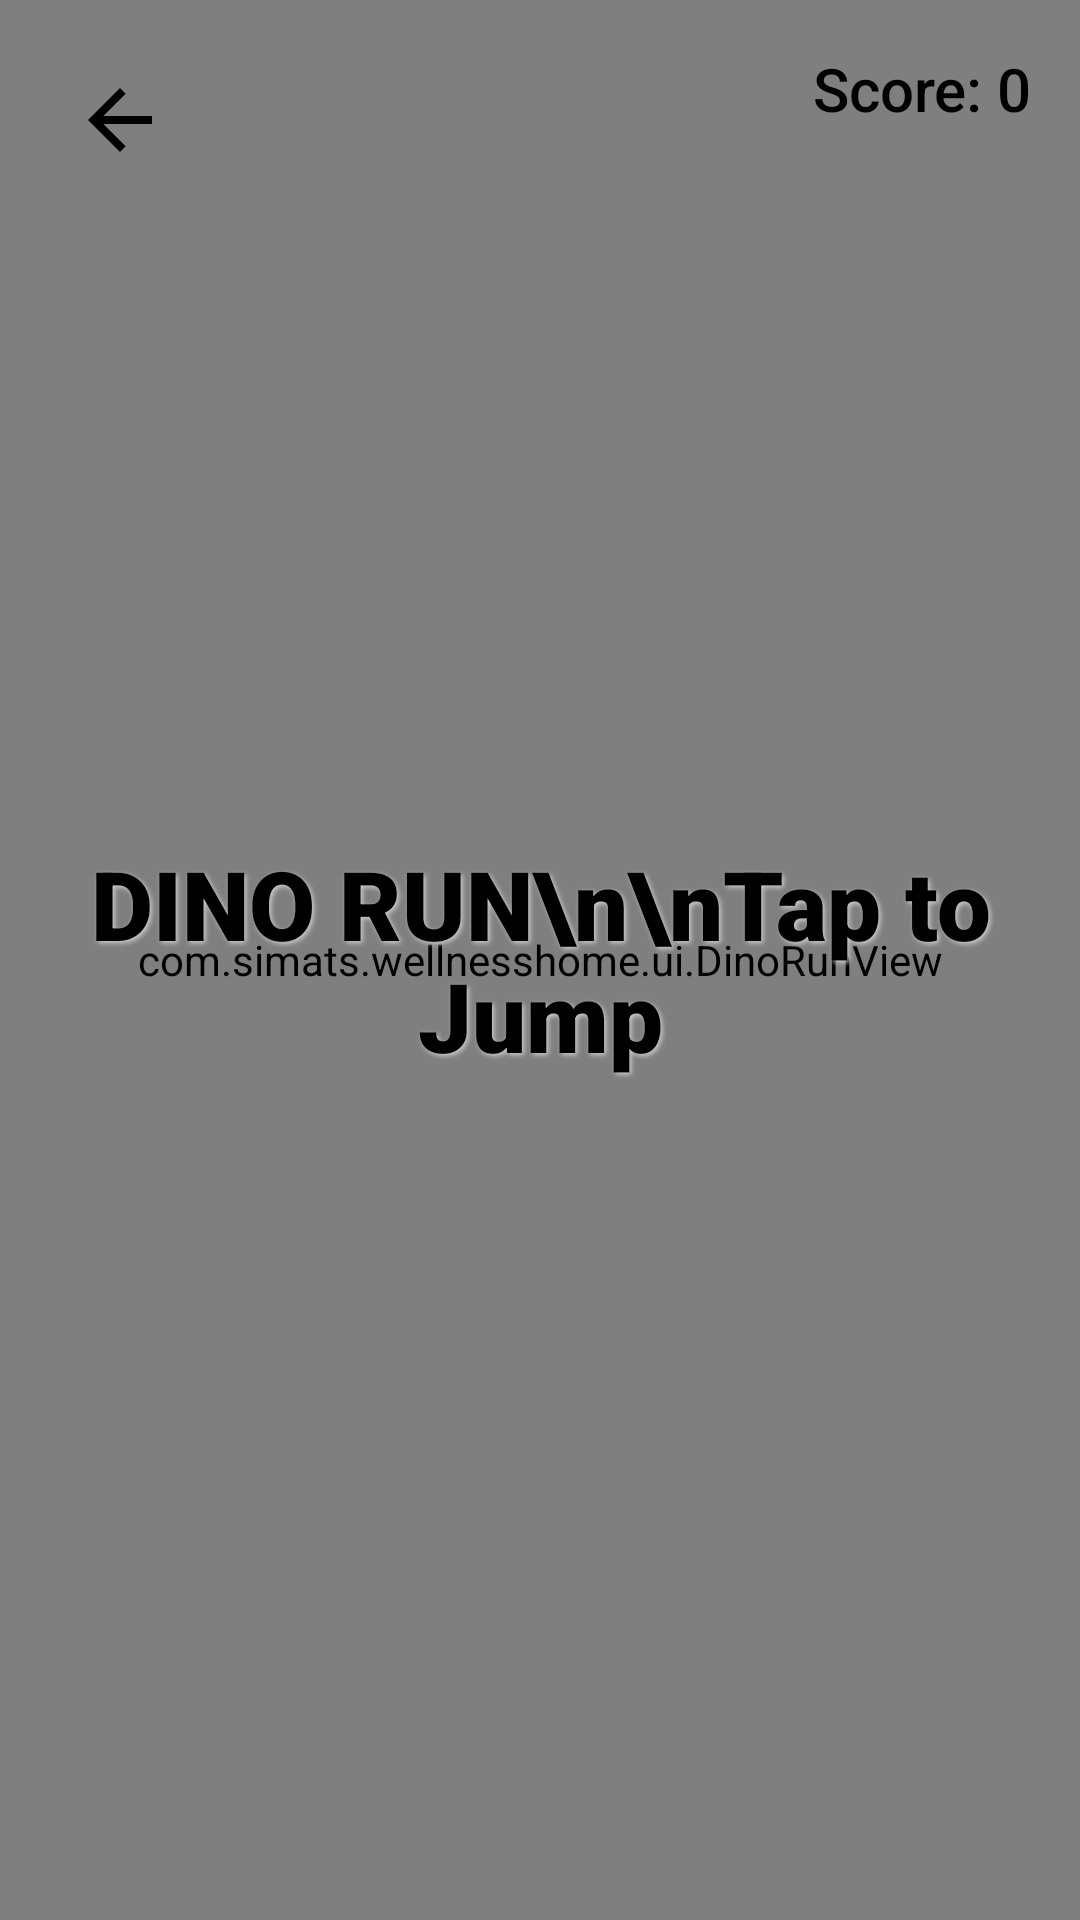

Where icons sit on this 1080 x 1920 app screen, as (x1, y1, x2, y2):
arrow back: (88, 88, 152, 152)
